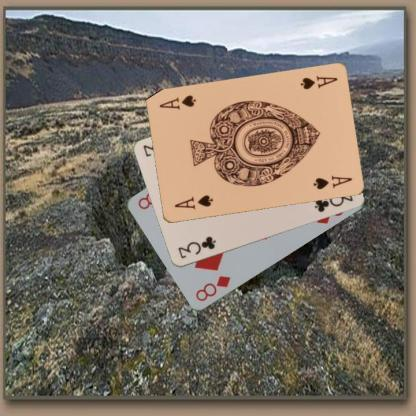3c: (175, 233, 217, 260)
8d: (192, 274, 232, 304)
As: (172, 192, 214, 210), (297, 74, 339, 92)
